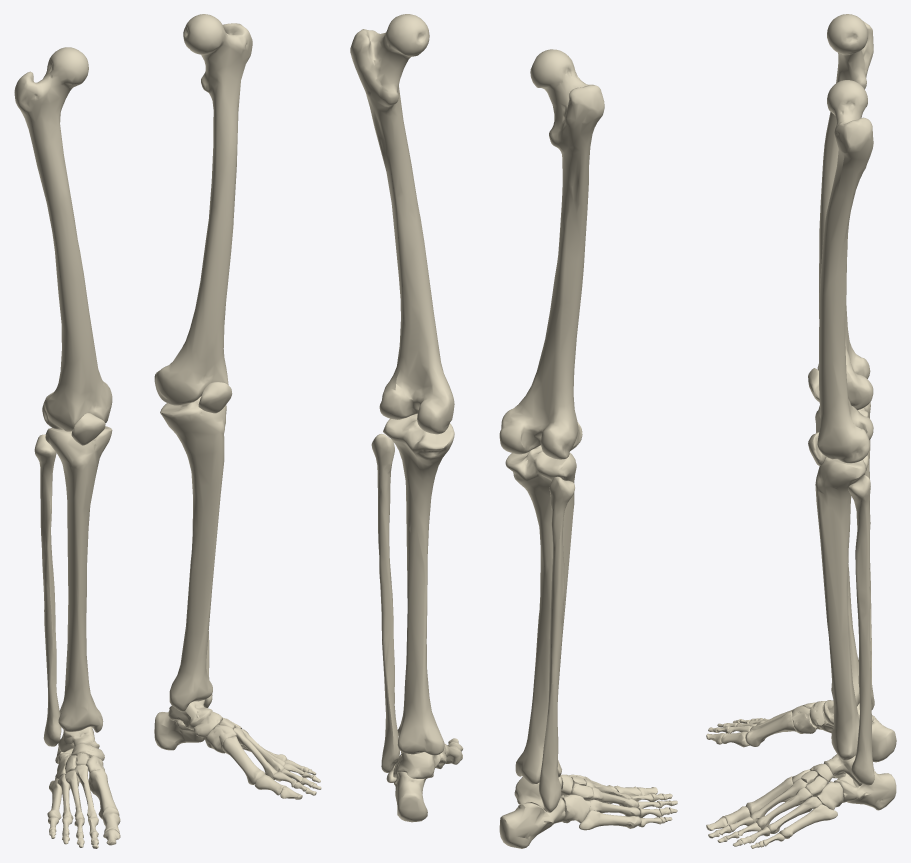
Rendered from lower-limb-balanced.glb.
3 views of the same model, side by side, from view 1: azimuth 30°, elevation 25°; view 2: azimuth 150°, elevation 25°; view 3: azimuth 270°, elevation 25° (orthographic). The views are drawn at different scales.
Parts seen in each view (by area): view 1: bp3d.FMA24475, bp3d.FMA24474, bp3d.FMA24478, bp3d.FMA24477, bp3d.FMA24491, bp3d.FMA24492, bp3d.FMA24480, bp3d.FMA24493, bp3d.FMA24487, bp3d.FMA24486; view 2: bp3d.FMA24475, bp3d.FMA24474, bp3d.FMA24478, bp3d.FMA24477, bp3d.FMA24491, bp3d.FMA24480, bp3d.FMA24481, bp3d.FMA24492, bp3d.FMA24493; view 3: bp3d.FMA24475, bp3d.FMA24478, bp3d.FMA24474, bp3d.FMA24491, bp3d.FMA24481, bp3d.FMA24492, bp3d.FMA24493, bp3d.FMA24477, bp3d.FMA24480.
Part boxes in pixels (x1,y1,x2,y2): bp3d.FMA24475: (154, 14, 252, 405); bp3d.FMA24474: (14, 47, 112, 431); bp3d.FMA24478: (160, 396, 226, 711); bp3d.FMA24477: (45, 426, 112, 732); bp3d.FMA24491: (55, 700, 241, 779); bp3d.FMA24492: (47, 726, 287, 820); bp3d.FMA24480: (34, 434, 61, 746); bp3d.FMA24493: (48, 759, 321, 848); bp3d.FMA24487: (198, 382, 232, 413); bp3d.FMA24486: (71, 413, 105, 445); bp3d.FMA24475: (350, 14, 454, 434); bp3d.FMA24474: (499, 49, 604, 459); bp3d.FMA24478: (383, 414, 454, 755); bp3d.FMA24477: (505, 445, 576, 784); bp3d.FMA24491: (393, 747, 593, 848); bp3d.FMA24480: (539, 476, 574, 812); bp3d.FMA24481: (371, 434, 399, 772); bp3d.FMA24492: (386, 743, 641, 830); bp3d.FMA24493: (401, 738, 677, 827); bp3d.FMA24475: (817, 80, 873, 463); bp3d.FMA24478: (815, 455, 868, 760); bp3d.FMA24474: (817, 14, 873, 410); bp3d.FMA24491: (792, 700, 896, 810); bp3d.FMA24481: (848, 475, 874, 785); bp3d.FMA24492: (745, 705, 837, 838); bp3d.FMA24493: (706, 718, 784, 848); bp3d.FMA24477: (815, 405, 868, 706); bp3d.FMA24480: (856, 402, 874, 709).
Size of the model in its own units: 0.3387 by 0.9047 by 0.212.
